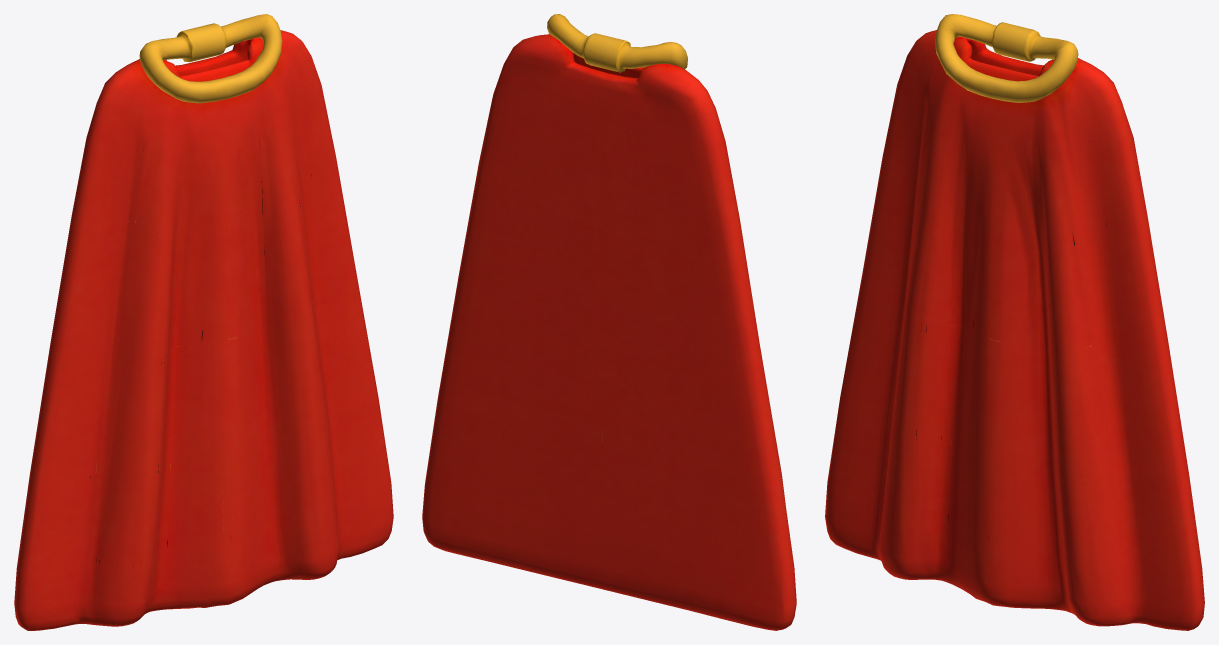
The model's file is back_cape.glb.
3 views of the same model, side by side, from view 1: azimuth 30°, elevation 25°; view 2: azimuth 150°, elevation 25°; view 3: azimuth 330°, elevation 25° (orthographic).
Parts seen in each view (by area): view 1: geometry_0; view 2: geometry_0; view 3: geometry_0.
Boxes of the visible parts, x1,y1,x2,y2 form: geometry_0: (14,14,393,630); geometry_0: (422,14,796,630); geometry_0: (825,14,1204,630).
Size of the model in its own units: 0.6606 by 0.9512 by 0.1157.
Materials: 1 (1 with a texture image).
